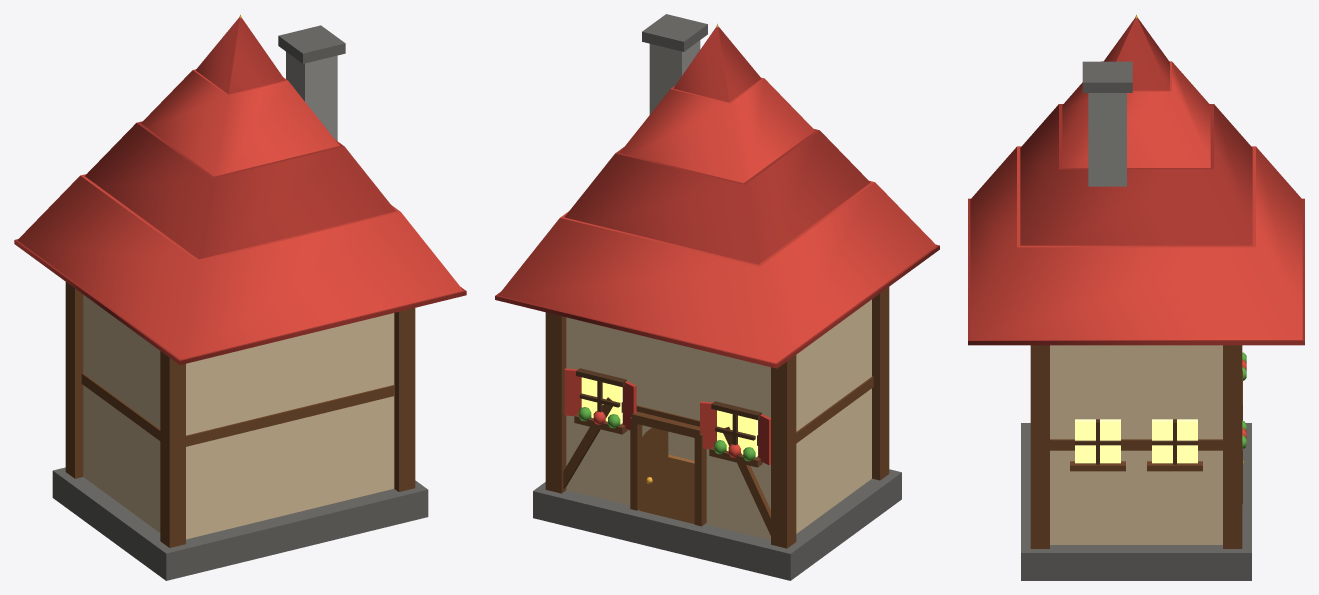
File: HavenHouseRed.glb
The picture shows the model from 3 angles, left to right: view 1: azimuth 30°, elevation 25°; view 2: azimuth 150°, elevation 25°; view 3: azimuth 270°, elevation 25°; orthographic projection. The views are drawn at different scales.
Visible parts, largest first — view 1: Body; view 2: Body, Lamp; view 3: Body, Lamp.
Part boxes in pixels (x1,y1,x2,y2): Body: [14, 14, 466, 580]; Body: [495, 14, 939, 580]; Lamp: [581, 377, 757, 457]; Body: [968, 14, 1304, 580]; Lamp: [1075, 419, 1197, 463].
Size of the model in its own units: 8.76 by 14.4 by 8.76.
Materials: 2 (1 with a texture image).
